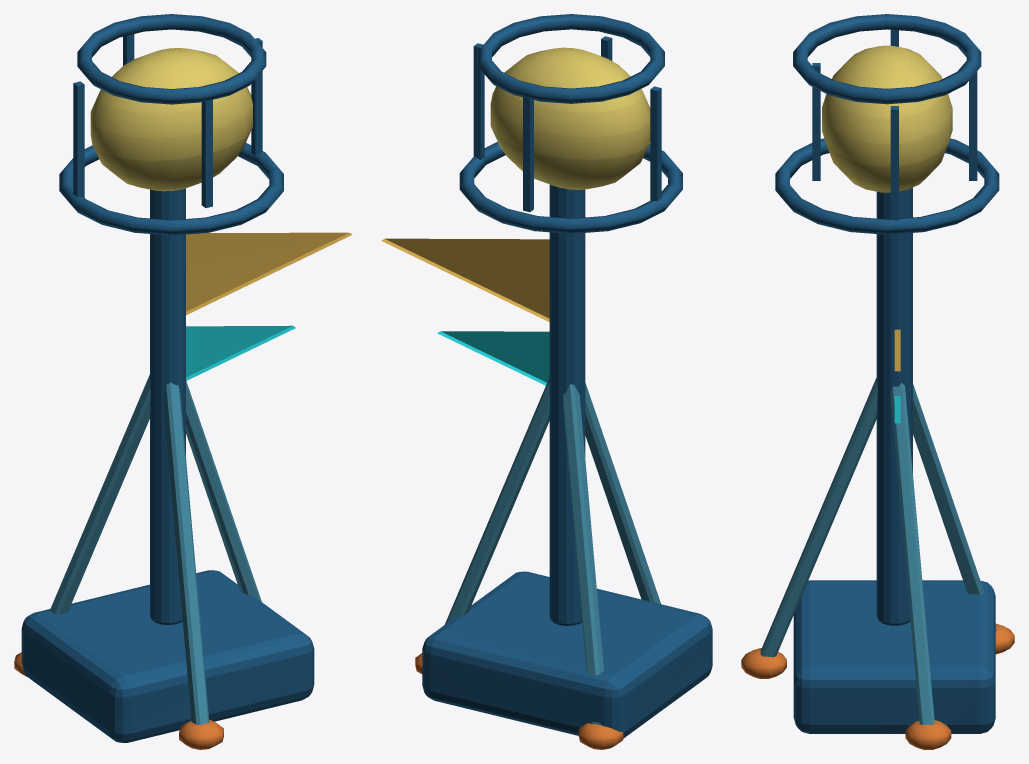
File: glacier_camp_lamp_v1.glb
The picture shows the model from 3 angles, left to right: view 1: azimuth 30°, elevation 25°; view 2: azimuth 150°, elevation 25°; view 3: azimuth 270°, elevation 25°; orthographic projection.
Visible parts, largest first — view 1: glacier_camp_lamp_v1; view 2: glacier_camp_lamp_v1; view 3: glacier_camp_lamp_v1.
Boxes of the visible parts, x1,y1,x2,y2 form: glacier_camp_lamp_v1: (14,14,352,749); glacier_camp_lamp_v1: (381,14,712,749); glacier_camp_lamp_v1: (741,14,1014,749).
Size of the model in its own units: 2.18 by 4.68 by 1.81.
